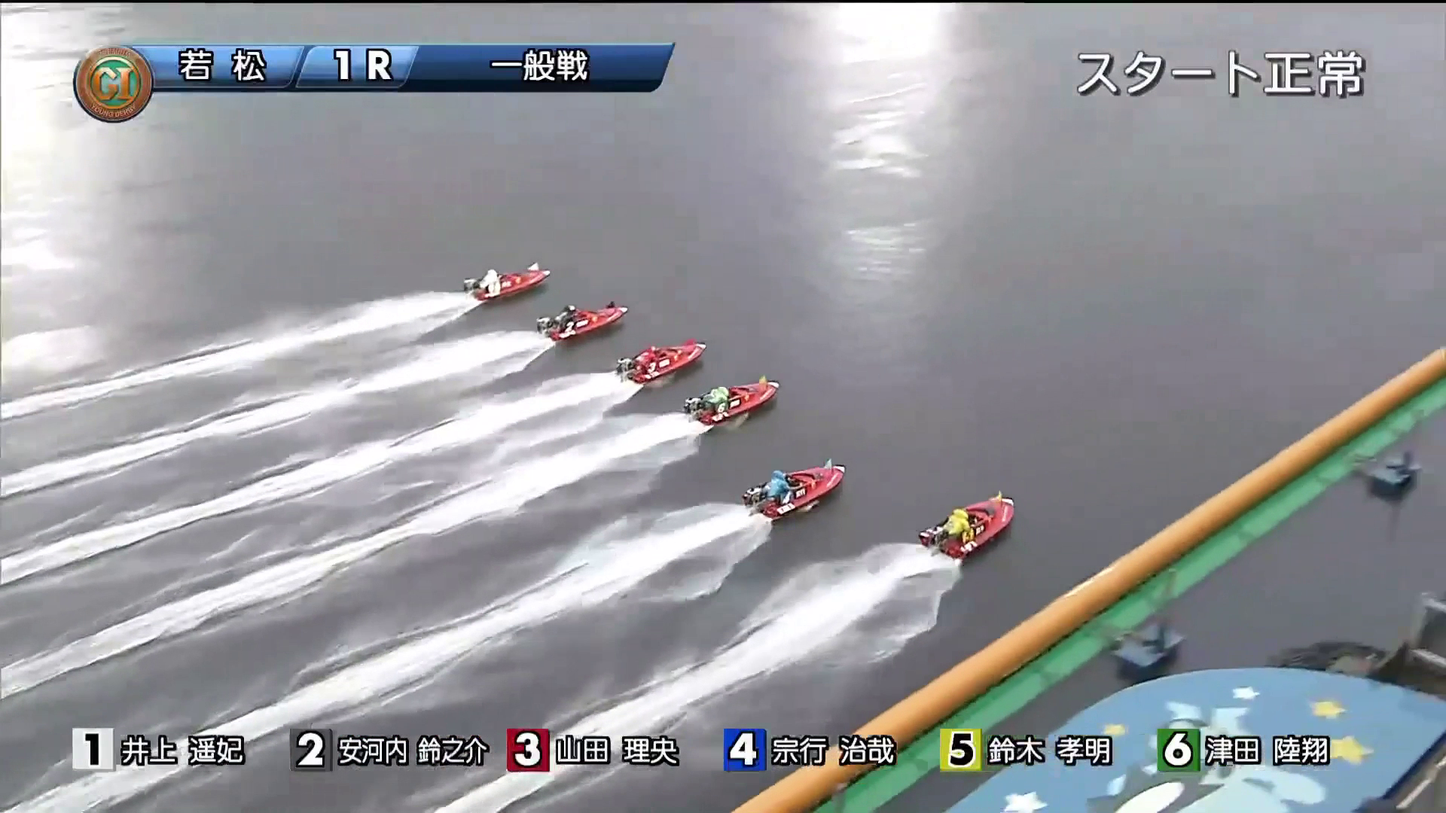１号艇: (908, 345, 984, 384)
２号艇: (664, 316, 754, 354)
３号艇: (669, 352, 760, 393)
４号艇: (677, 393, 782, 436)
５号艇: (640, 447, 761, 503)
６号艇: (736, 497, 836, 554)
